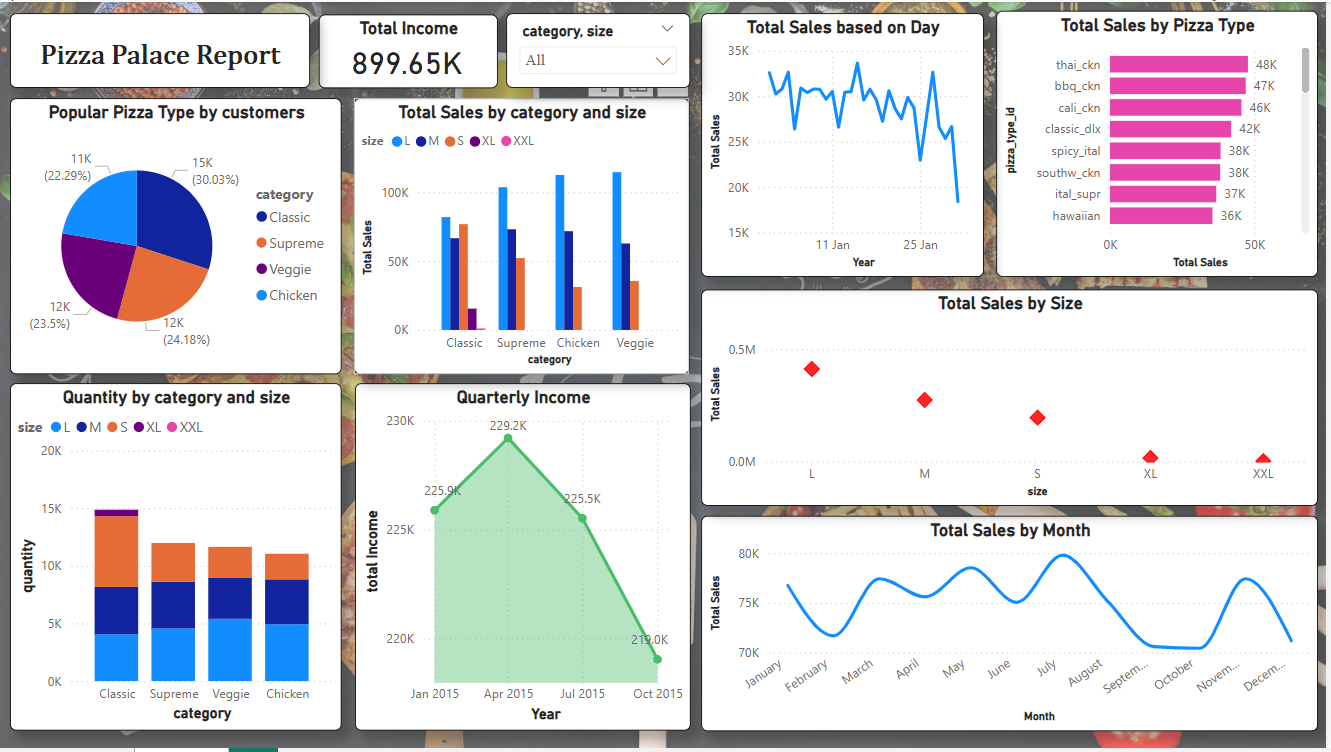

Layout of this report page (visuals, bound fields, positions):
{"tool":"powerbi","page":{"name":"Page 1","canvas":[1280,720],"ordinal":0},"visuals":[{"type":"card","title":"Total Income","fields":{"Values":["Sum(Order_Details.total_amount)"]},"box":[308.2,12.2,172.4,70.9],"z":0},{"type":"textbox","box":[9.8,11,289.8,72.1],"z":1000},{"type":"pieChart","title":"Popular Pizza Type by customers","fields":{"Category":["Order_Details.category"],"Y":["Sum(Order_Details.quantity)"]},"box":[9.8,92.9,320.4,266.6],"z":2000},{"type":"columnChart","title":"Quantity by category and size","fields":{"Y":["Sum(Order_Details.quantity)"],"Series":["Order_Details.size"],"Category":["Order_Details.category"]},"box":[9.8,368.1,320.4,335.1],"z":3000},{"type":"lineChart","title":"Quarterly Income","fields":{"Category":["Order_Details.date.Variation.Date Hierarchy.Year","Order_Details.date.Variation.Date Hierarchy.Quarter"],"Y":["Sum(Order_Details.total_amount)"]},"box":[342.4,368.1,324.1,335.1],"z":4000},{"type":"clusteredColumnChart","title":"Total Sales by category and size","fields":{"Series":["Order_Details.size"],"Y":["Sum(Order_Details.total_amount)"],"Category":["Order_Details.category"]},"box":[341.2,92.9,324.1,266.6],"z":5000},{"type":"lineChart","title":"Total Sales by Month","fields":{"Y":["Sum(Order_Details.total_amount)"],"Category":["Order_Details.date.Variation.Date Hierarchy.Month"]},"box":[676.2,495.2,595.5,207.9],"z":6000},{"type":"clusteredBarChart","title":"Total Sales by Pizza Type","fields":{"Y":["Sum(Order_Details.total_amount)"],"Category":["Order_Details.pizza_type_id"]},"box":[961.1,8.6,310.6,256.8],"z":7000},{"type":"scatterChart","title":"Total Sales by Size","fields":{"X":["Order_Details.size"],"Y":["Sum(Order_Details.total_amount)"]},"box":[676.2,277.6,595.5,209.1],"z":7001},{"type":"lineChart","title":"Total Sales based on Day","fields":{"Category":["Order_Details.date.Variation.Date Hierarchy.Year","Order_Details.date.Variation.Date Hierarchy.Day"],"Y":["Sum(Order_Details.total_amount)"]},"box":[676.2,11,272.7,254.3],"z":7002},{"type":"slicer","fields":{"Values":["Order_Details.category","Order_Details.size"]},"box":[489.1,11,177.3,72.1],"z":7003}]}

Visuals, with their boxes in screenshot pixels (x1, y1, x2, y2), scaled from the page's 1280x720 canvas onto the 1331x752 screenshot:
"Total Income" card: [320,13,500,87]
textbox: [10,11,312,87]
"Popular Pizza Type by customers" pieChart: [10,97,343,375]
"Quantity by category and size" columnChart: [10,384,343,734]
"Quarterly Income" lineChart: [356,384,693,734]
"Total Sales by category and size" clusteredColumnChart: [355,97,692,375]
"Total Sales by Month" lineChart: [703,517,1322,734]
"Total Sales by Pizza Type" clusteredBarChart: [999,9,1322,277]
"Total Sales by Size" scatterChart: [703,290,1322,508]
"Total Sales based on Day" lineChart: [703,11,987,277]
slicer - Order_Details.category x Order_Details.size: [509,11,693,87]
